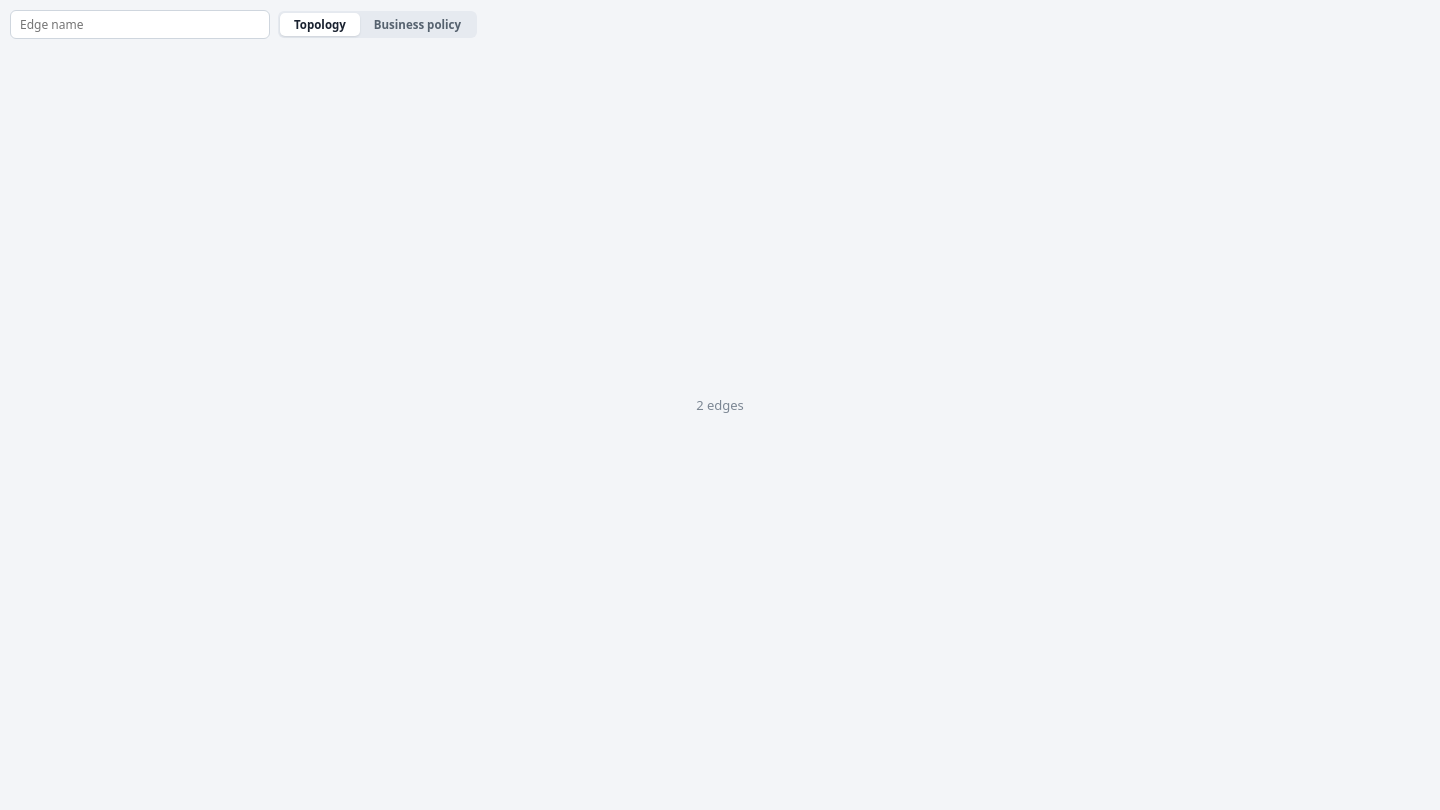
SdwanPage › states that the policy has no rules
Check: the text "2 edges" is shown, box [696,396,744,414]
Type "XX-CITY-BR-RTS-01" into the field named "SD-WAN edge" at (140, 24), box [10,10,270,39]
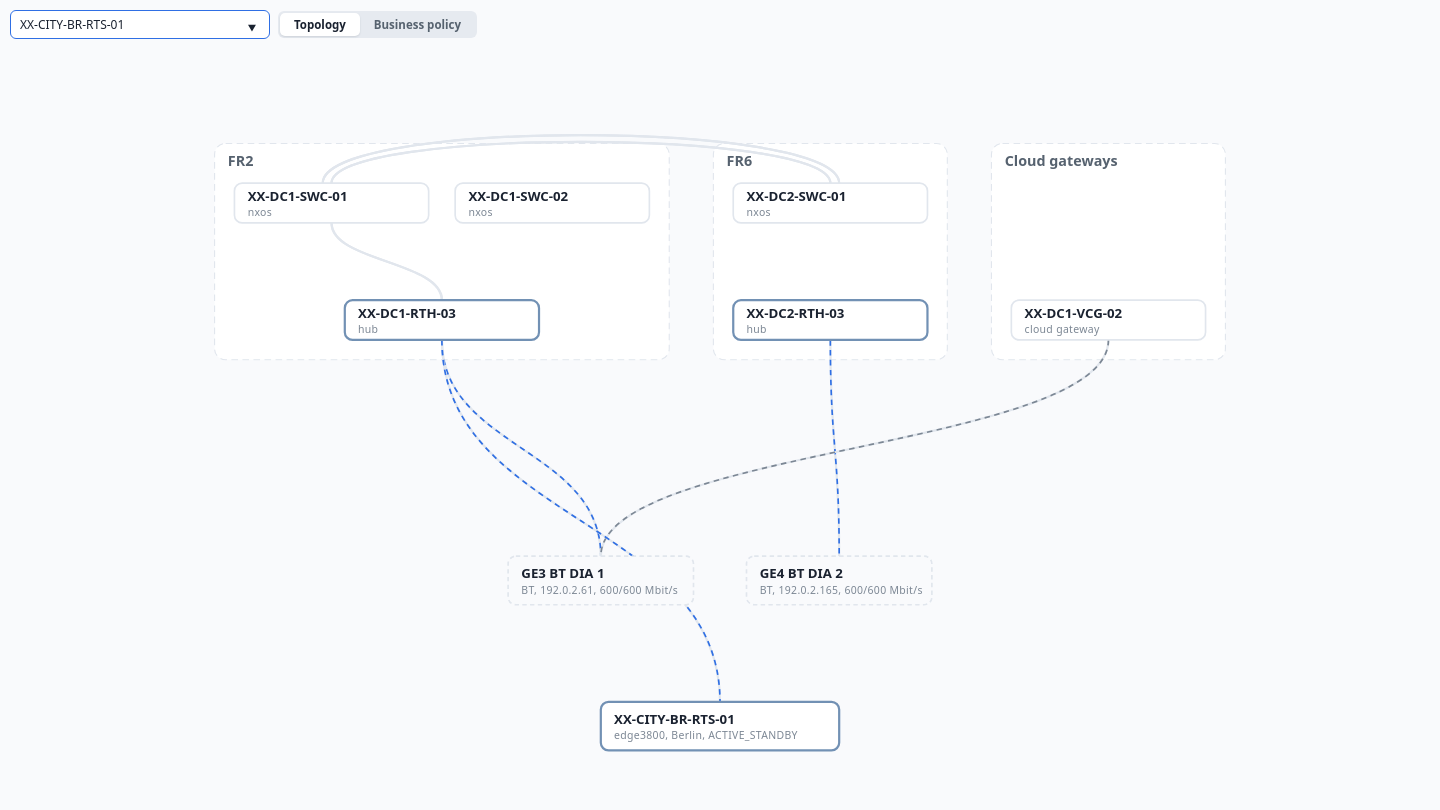
Check: the icon named "SD-WAN topology" is shown
Click the radio button labelled "Business policy" at (417, 24), box [360,13,475,36]
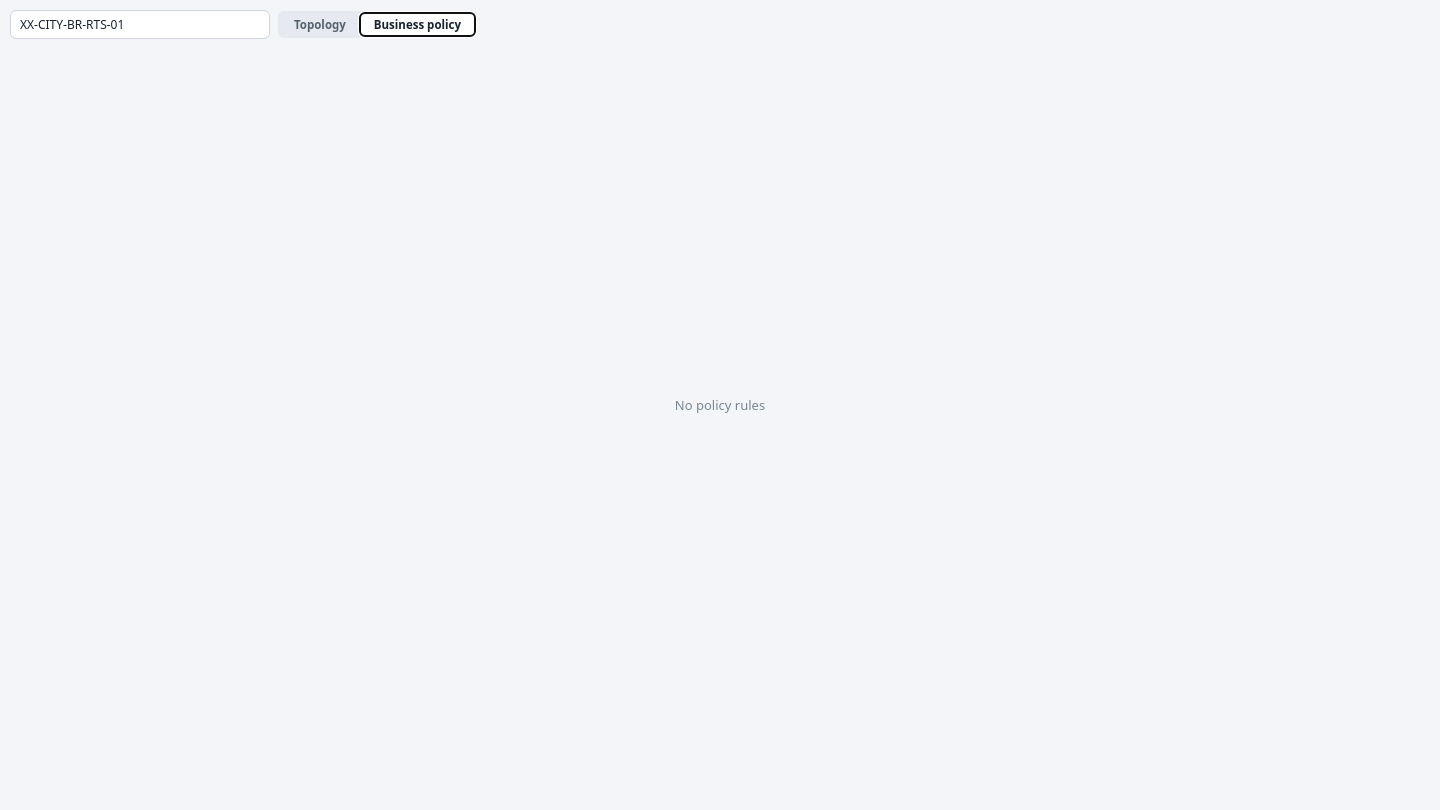
Check: the text "No policy rules" is shown, box [675,396,765,414]
